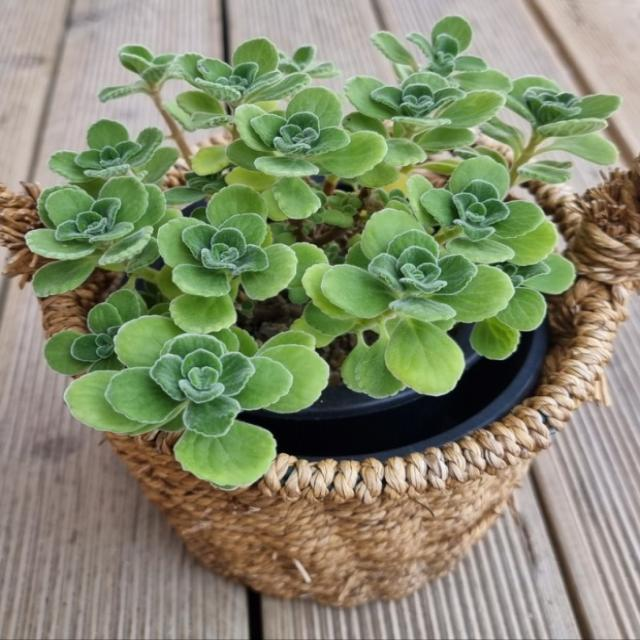Vicks: (65, 315, 329, 487), (303, 209, 514, 398), (226, 88, 388, 220), (157, 184, 297, 333), (26, 175, 166, 297), (407, 156, 557, 265), (342, 71, 503, 167), (481, 78, 620, 184), (178, 39, 310, 106), (44, 290, 147, 374), (49, 120, 179, 183), (407, 18, 511, 92), (372, 31, 420, 80)
